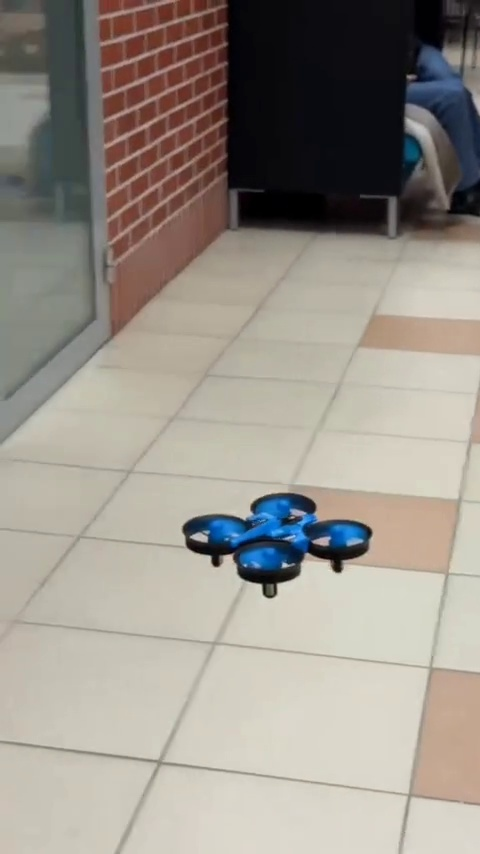drone: (171, 499, 378, 601)
